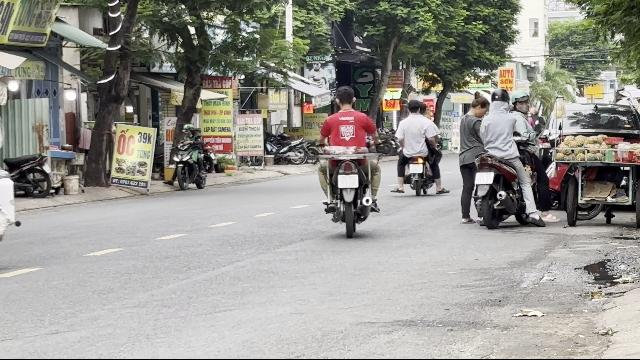helmet: (510, 88, 530, 110), (490, 87, 508, 107)
licenseplate: (338, 174, 358, 188), (475, 172, 493, 184), (410, 164, 422, 172)
motorcyclist: (456, 84, 540, 228), (314, 84, 384, 236), (392, 96, 443, 196)
nohelmet: (332, 86, 356, 110), (406, 98, 422, 114)
